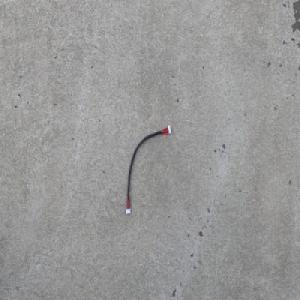Wire: (125, 122, 172, 215)
